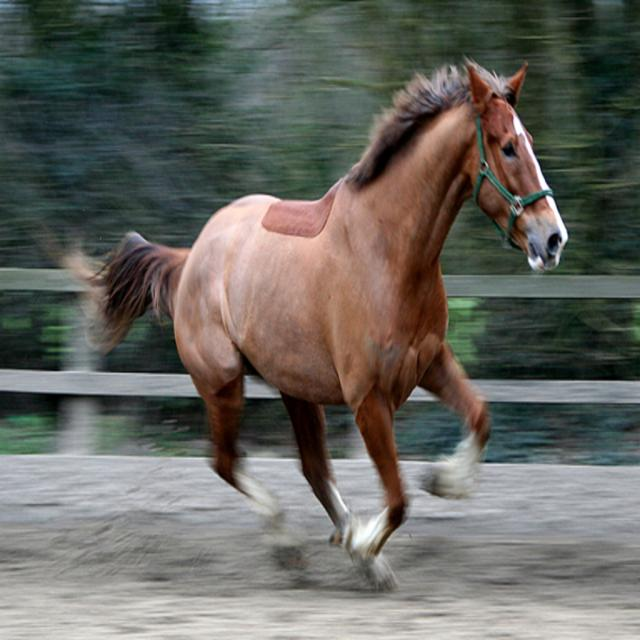Horse: (41, 45, 570, 584)
